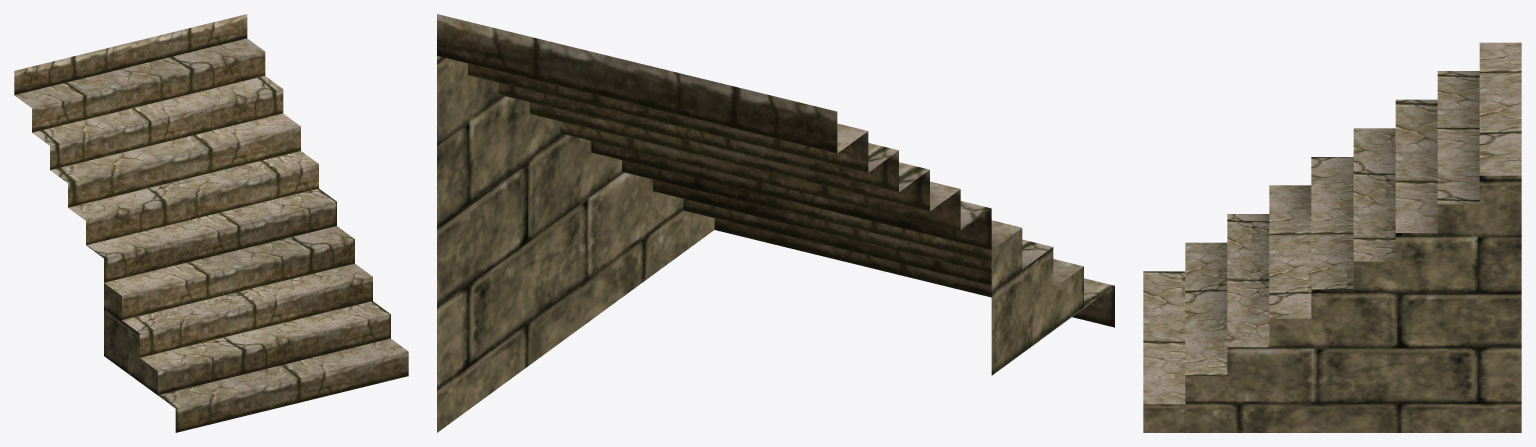
Rendered from OVERHILL_A_01_OH_DWARFSTEP948.fbx.
3 views of the same model, side by side, from view 1: azimuth 30°, elevation 25°; view 2: azimuth 150°, elevation 25°; view 3: azimuth 270°, elevation 25° (orthographic). The views are drawn at different scales.
Visible parts, largest first — view 1: OVERHILL_A_01_OH_DWARFSTEP948; view 2: OVERHILL_A_01_OH_DWARFSTEP948; view 3: OVERHILL_A_01_OH_DWARFSTEP948.
Boxes of the visible parts, x1,y1,x2,y2 form: OVERHILL_A_01_OH_DWARFSTEP948: (14,14,408,432); OVERHILL_A_01_OH_DWARFSTEP948: (437,14,1114,432); OVERHILL_A_01_OH_DWARFSTEP948: (1143,42,1521,432).
Bounding box in the file's own units: 30000 × 30000 × 36000.
3 materials, 3 textured.
